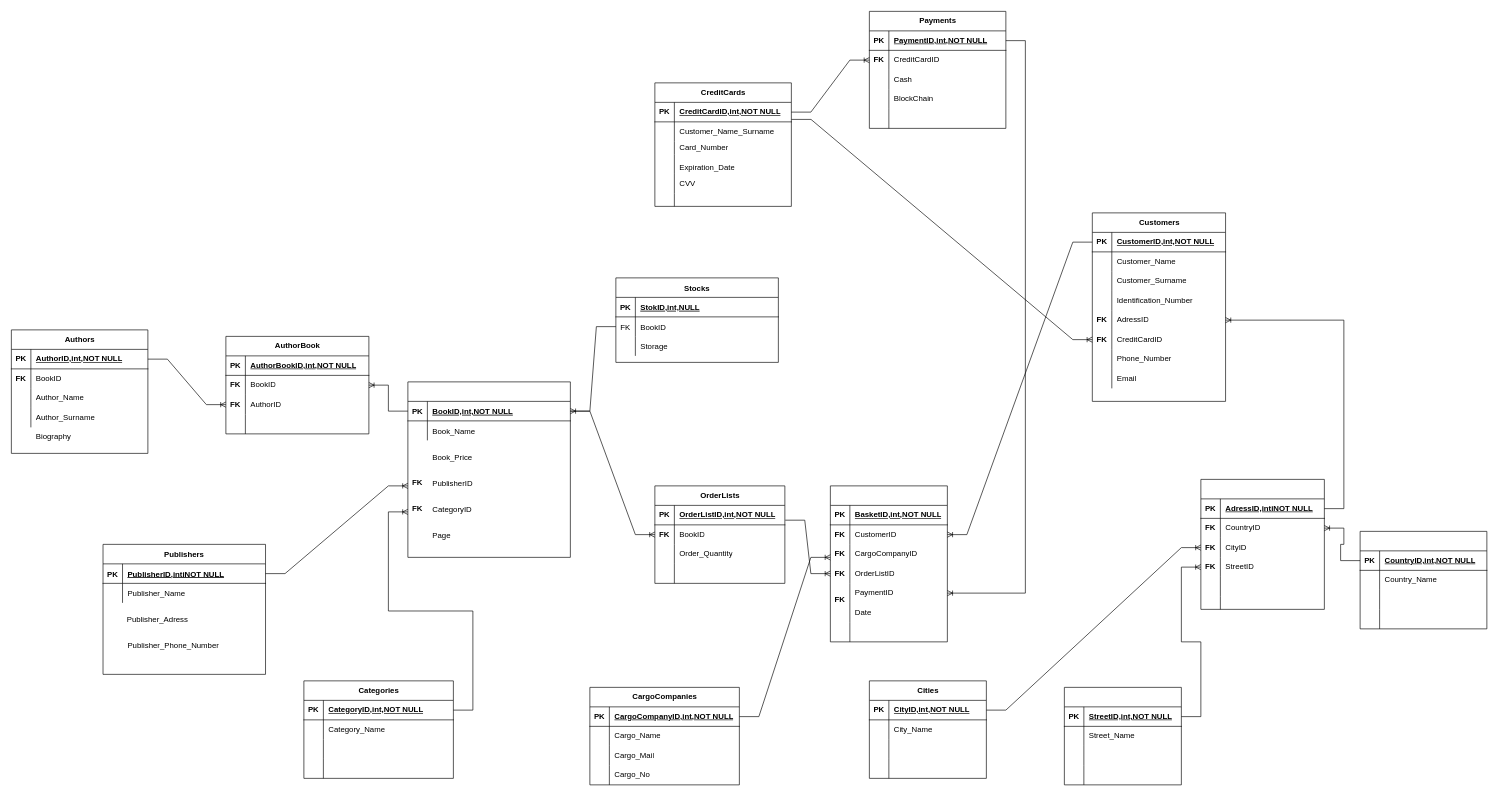
This 1498x796 diagram has some shape labels left out. The box of each missing label's shape, as (x1, y1, x2, y2) in pixels:
Adresses: (1200, 479, 1324, 609)
Baskets: (830, 485, 947, 642)
Books: (407, 381, 570, 557)
Countries: (1359, 531, 1487, 629)
Streets: (1064, 687, 1181, 785)
